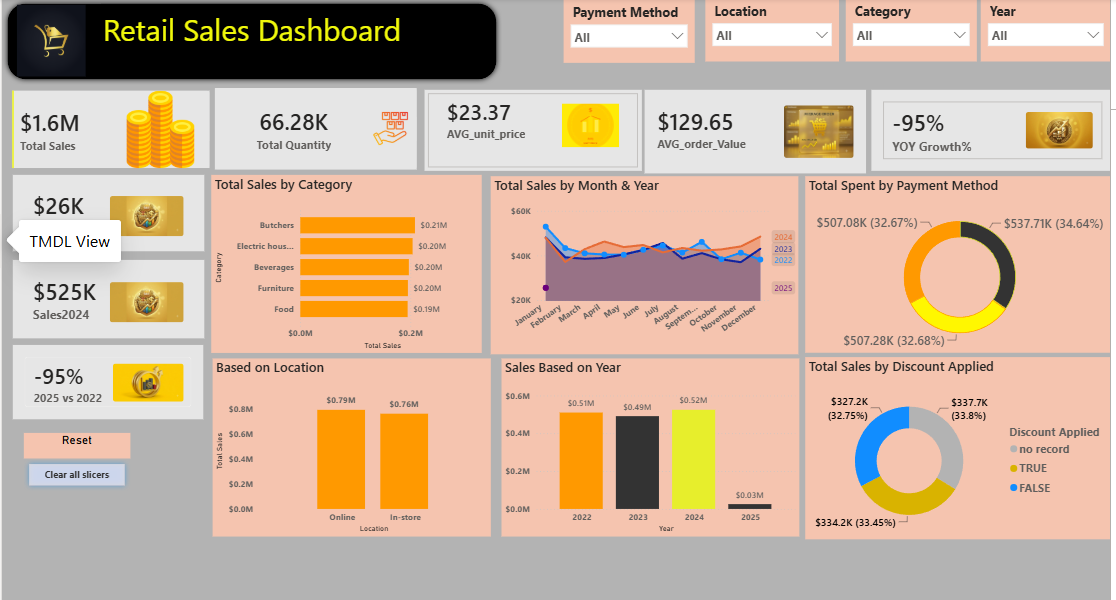

This screenshot's page, from the dashboard's own definition file:
{"tool":"powerbi","page":{"name":"Page 1","canvas":[1590,871],"ordinal":0},"visuals":[{"type":"cardVisual","fields":{"Data":["retail_store_sales.Sales Change % 2025 vs 2022"]},"box":[15.5,497.9,273.1,106.6],"z":0},{"type":"cardVisual","title":"Total_Sales","fields":{"Data":["retail_store_sales.Total Sales"]},"box":[0,118.2,313.8,141.4],"z":1000},{"type":"cardVisual","title":"Total_Quantity","fields":{"Data":["Sum(retail_store_sales.Quantity)"]},"box":[300.3,124,300.3,127.9],"z":2000},{"type":"cardVisual","title":"2024 Sales","fields":{"Data":["retail_store_sales.Sales2024"]},"box":[14.7,376.3,274.9,112.9],"z":3000},{"type":"cardVisual","title":"2025 Sales","fields":{"Data":["retail_store_sales.Sales2025"]},"box":[15.5,253.8,274.9,109.6],"z":4000},{"type":"cardVisual","fields":{"Data":["retail_store_sales.YOY Growth"]},"box":[1247.6,131.7,348.7,116.2],"z":5000},{"type":"shape","box":[0,0,717.4,124.8],"z":6000},{"type":"image","box":[0,9.7,141.4,102.7],"z":7000},{"type":"cardVisual","fields":{"Data":["retail_store_sales.AVG_unit_price"]},"box":[606.4,131.7,311.9,116.2],"z":8000},{"type":"cardVisual","fields":{"Data":["retail_store_sales.AVG_order"]},"box":[922.1,131.7,317.7,120.1],"z":9000},{"type":"lineChart","title":"Total Sales by Month & Year","fields":{"Category":["retail_store_sales.Month Name"],"Y":["retail_store_sales.Total Sales"],"Series":["retail_store_sales.Year"]},"box":[702,255.3,441.8,255.3],"z":10000},{"type":"barChart","title":"Total Sales by Category","fields":{"Category":["retail_store_sales.Category"],"Y":["retail_store_sales.Total Sales"]},"box":[301.1,253.6,387.8,255.3],"z":11000},{"type":"donutChart","title":"Total Spent by Payment Method","fields":{"Category":["retail_store_sales.Payment Method"],"Y":["Sum(retail_store_sales.Total Spent)"]},"box":[1152,255.3,443.4,253.6],"z":12000},{"type":"columnChart","title":"Based on Location","fields":{"Y":["retail_store_sales.Total Sales"],"Category":["retail_store_sales.Location"]},"box":[302.7,517.1,399.3,255.3],"z":13000},{"type":"columnChart","title":"Sales Based on Year","fields":{"Y":["retail_store_sales.Total Sales"],"Category":["retail_store_sales.Year"]},"box":[716.7,517.1,427.1,255.3],"z":14000},{"type":"donutChart","fields":{"Category":["retail_store_sales.Discount Applied"],"Y":["retail_store_sales.Total Sales"]},"box":[1152.7,515.3,437.8,261.5],"z":15000},{"type":"slicer","fields":{"Values":["retail_store_sales.Year"]},"box":[1404.5,0,186,91.1],"z":16000},{"type":"slicer","fields":{"Values":["retail_store_sales.Category"]},"box":[1210.8,0,187.9,91.1],"z":17000},{"type":"slicer","fields":{"Values":["retail_store_sales.Location"]},"box":[1009.3,0,191.8,91],"z":18000},{"type":"actionButton","title":"Reset","box":[31,623.8,153,83.3],"z":19000},{"type":"slicer","fields":{"Values":["retail_store_sales.Payment Method"]},"box":[805.9,1.9,187.9,91],"z":20000}]}

Visuals, with their boxes in screenshot pixels (x1, y1, x2, y2), scaled from the page's 1590x871 canvas onto the 1116x600 screenshot:
cardVisual - retail_store_sales.Sales Change % 2025 vs 2022: (left=11, top=343, right=203, bottom=416)
"Total_Sales" cardVisual: (left=0, top=81, right=220, bottom=179)
"Total_Quantity" cardVisual: (left=211, top=85, right=422, bottom=174)
"2024 Sales" cardVisual: (left=10, top=259, right=203, bottom=337)
"2025 Sales" cardVisual: (left=11, top=175, right=204, bottom=250)
cardVisual - retail_store_sales.YOY Growth: (left=876, top=91, right=1115, bottom=171)
shape: (left=0, top=0, right=504, bottom=86)
image: (left=0, top=7, right=99, bottom=77)
cardVisual - retail_store_sales.AVG_unit_price: (left=426, top=91, right=645, bottom=171)
cardVisual - retail_store_sales.AVG_order: (left=647, top=91, right=870, bottom=173)
"Total Sales by Month & Year" lineChart: (left=493, top=176, right=803, bottom=352)
"Total Sales by Category" barChart: (left=211, top=175, right=484, bottom=351)
"Total Spent by Payment Method" donutChart: (left=809, top=176, right=1115, bottom=351)
"Based on Location" columnChart: (left=212, top=356, right=493, bottom=532)
"Sales Based on Year" columnChart: (left=503, top=356, right=803, bottom=532)
donutChart - retail_store_sales.Discount Applied x retail_store_sales.Total Sales: (left=809, top=355, right=1115, bottom=535)
slicer - retail_store_sales.Year: (left=986, top=0, right=1115, bottom=63)
slicer - retail_store_sales.Category: (left=850, top=0, right=982, bottom=63)
slicer - retail_store_sales.Location: (left=708, top=0, right=843, bottom=63)
"Reset" actionButton: (left=22, top=430, right=129, bottom=487)
slicer - retail_store_sales.Payment Method: (left=566, top=1, right=698, bottom=64)
